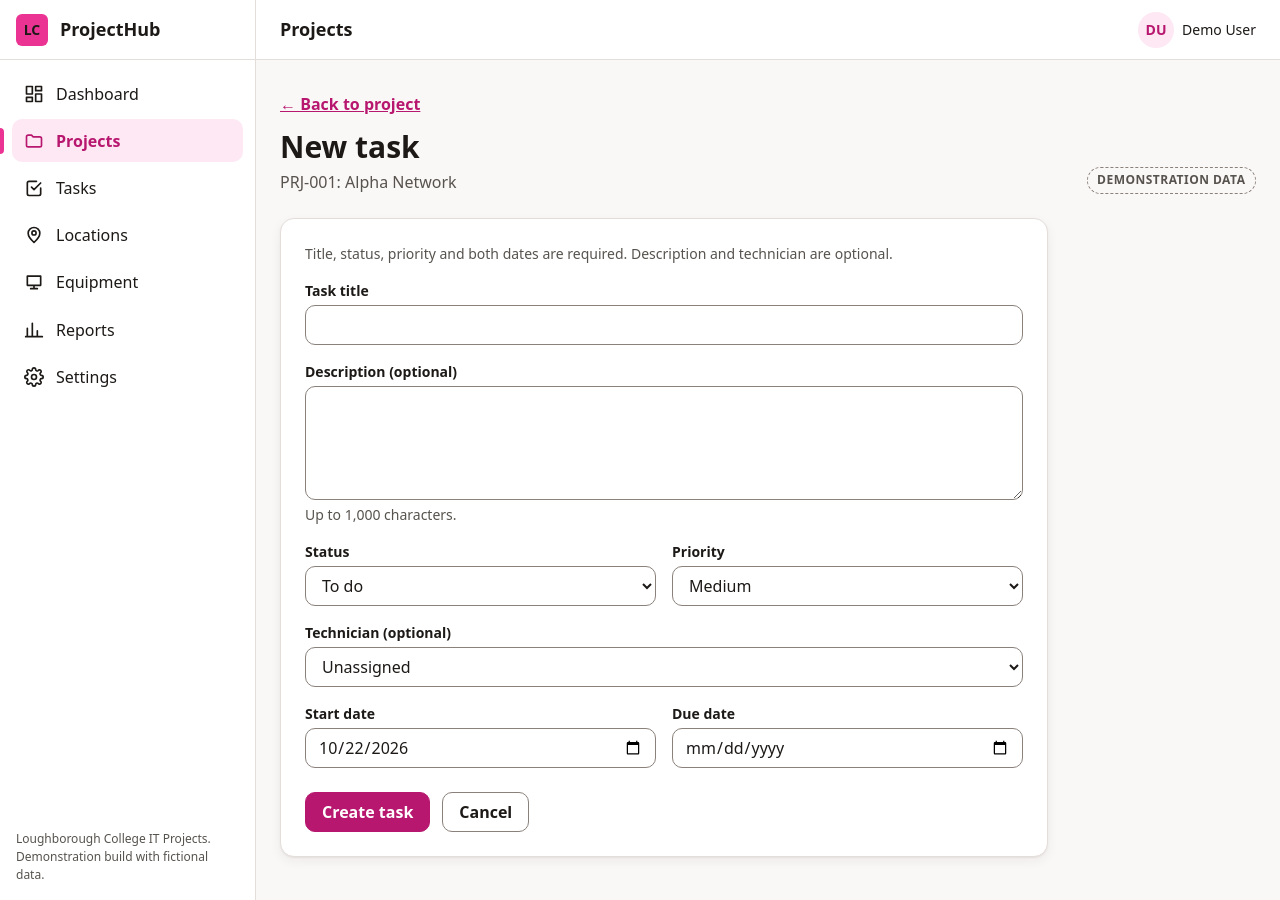
it: creating a task › preserves the input and explains the problem when the save fails
expect the heading "New task" is shown: met, box 280,126 -> 420,167
In the field labelled "Task title": (664, 324) 305,304 -> 1023,344, type "Label the cables"
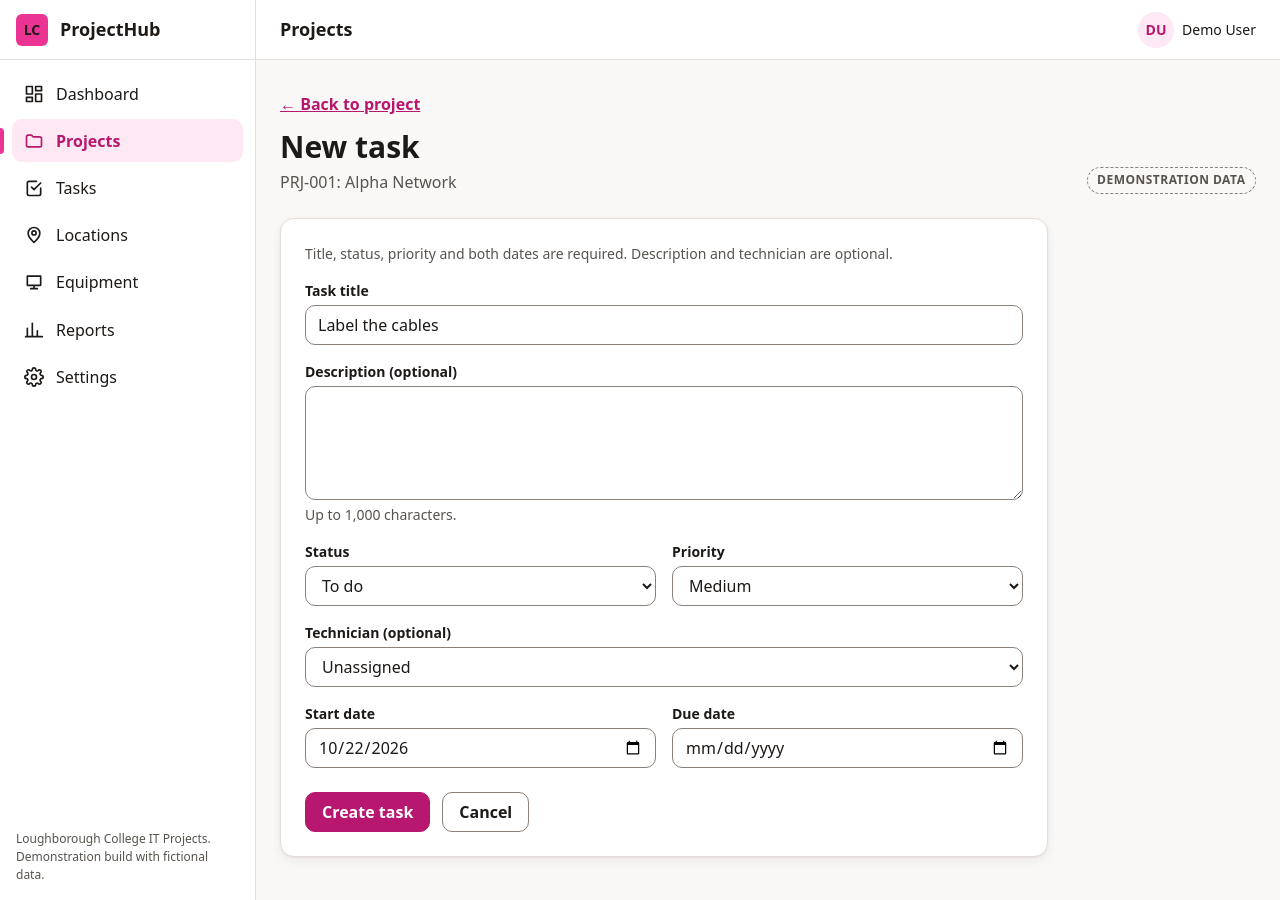
In the text box labelled "Description (optional)": (664, 442) 305,386 -> 1023,500, type "Both ends."
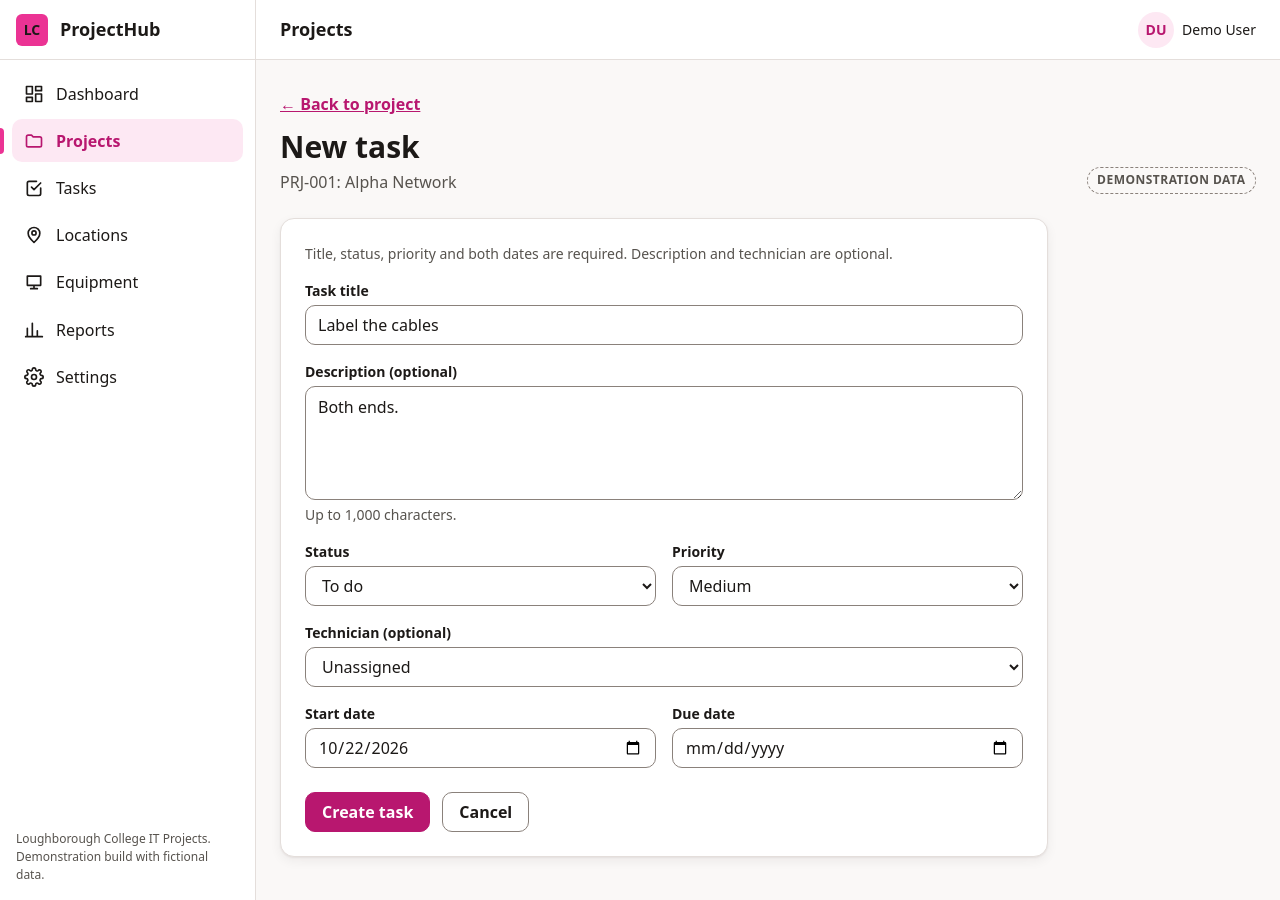
In the date field labelled "Due date": (848, 748) 672,728 -> 1023,768, type "2099-03-20"
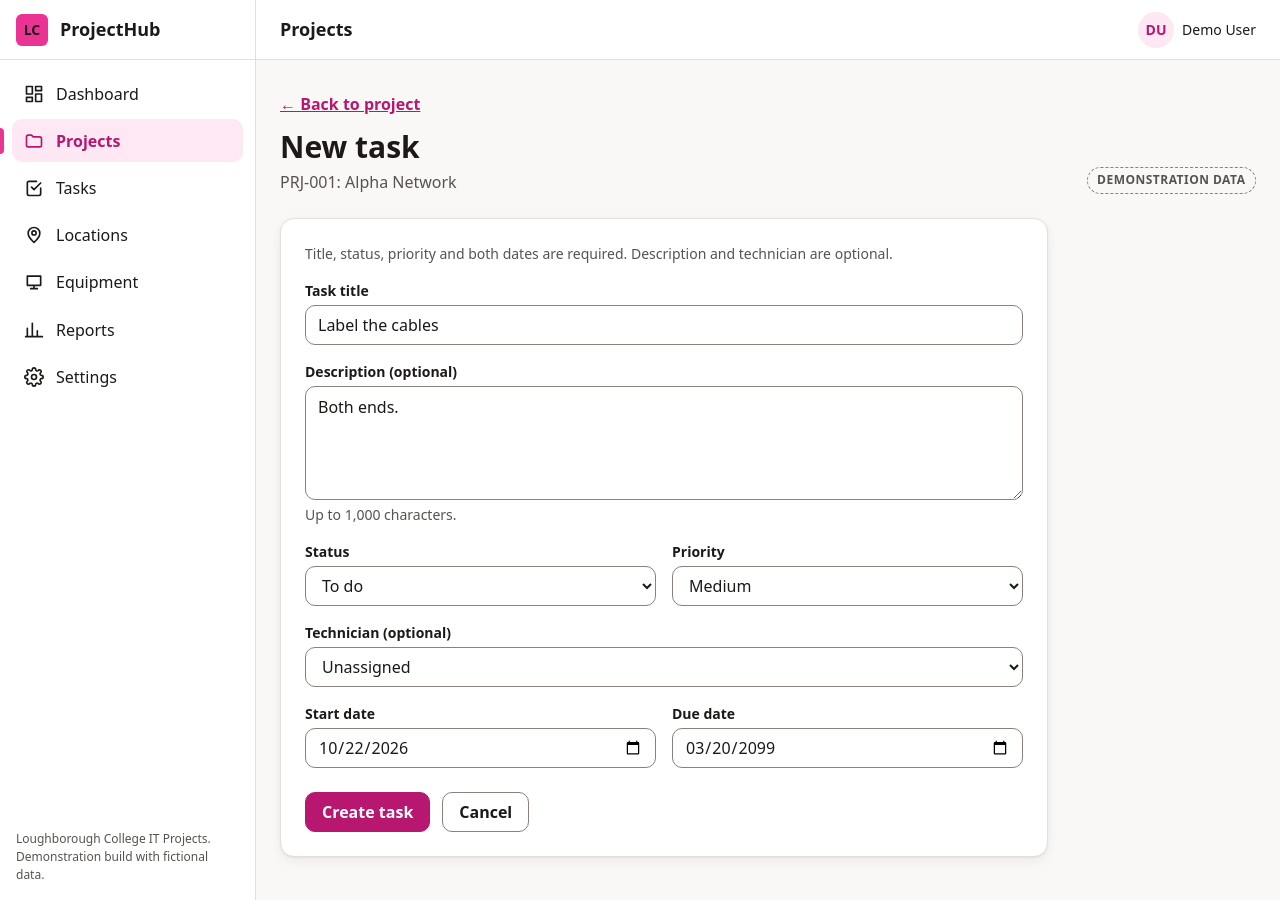
Click the button "Create task": (368, 812) 305,792 -> 430,832
(page scrolled)
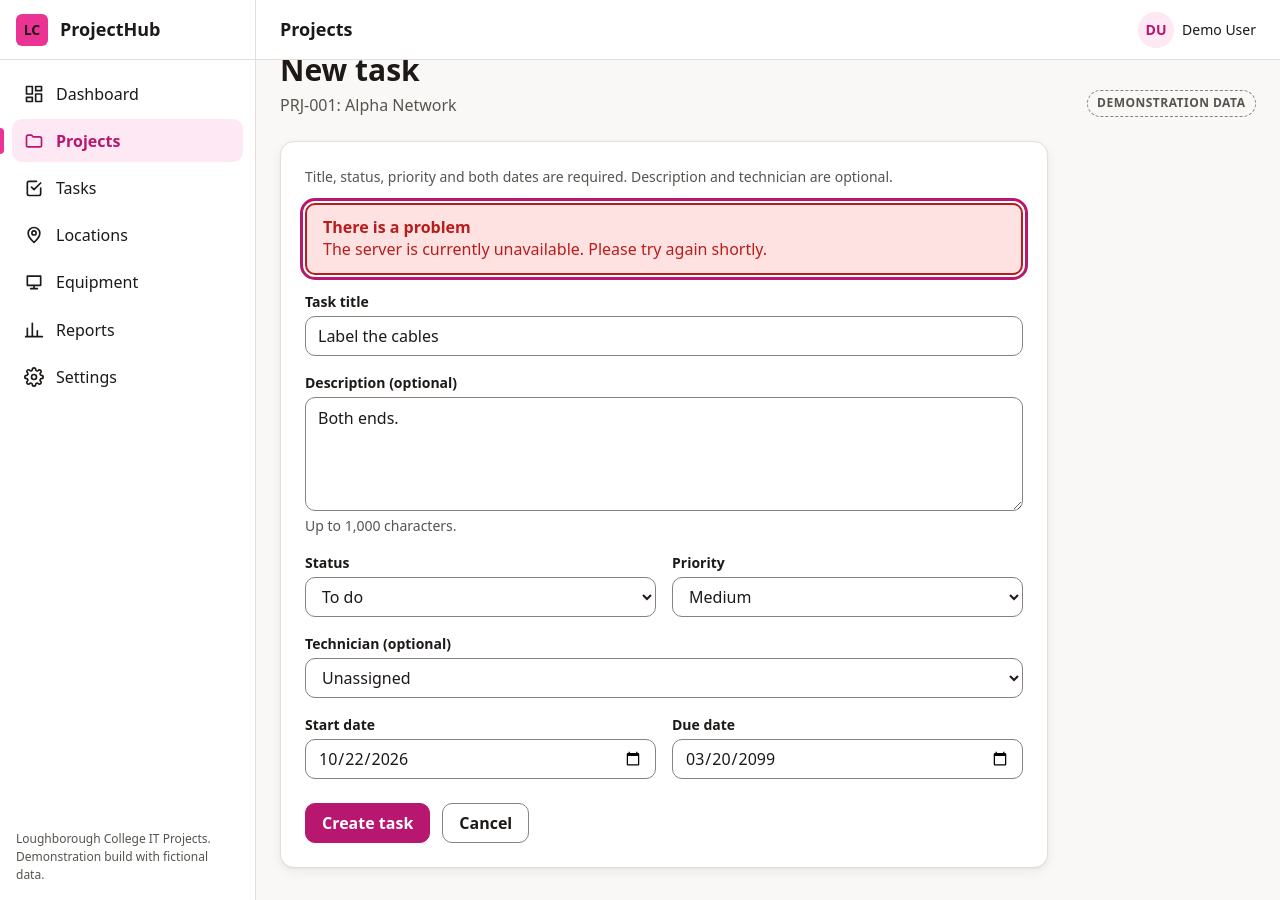
expect the button "Create task" is enabled: met, box 305,802 -> 430,842
expect the text "The server is currently unavailable. Please try again shortly." is shown: met, box 323,238 -> 767,260
